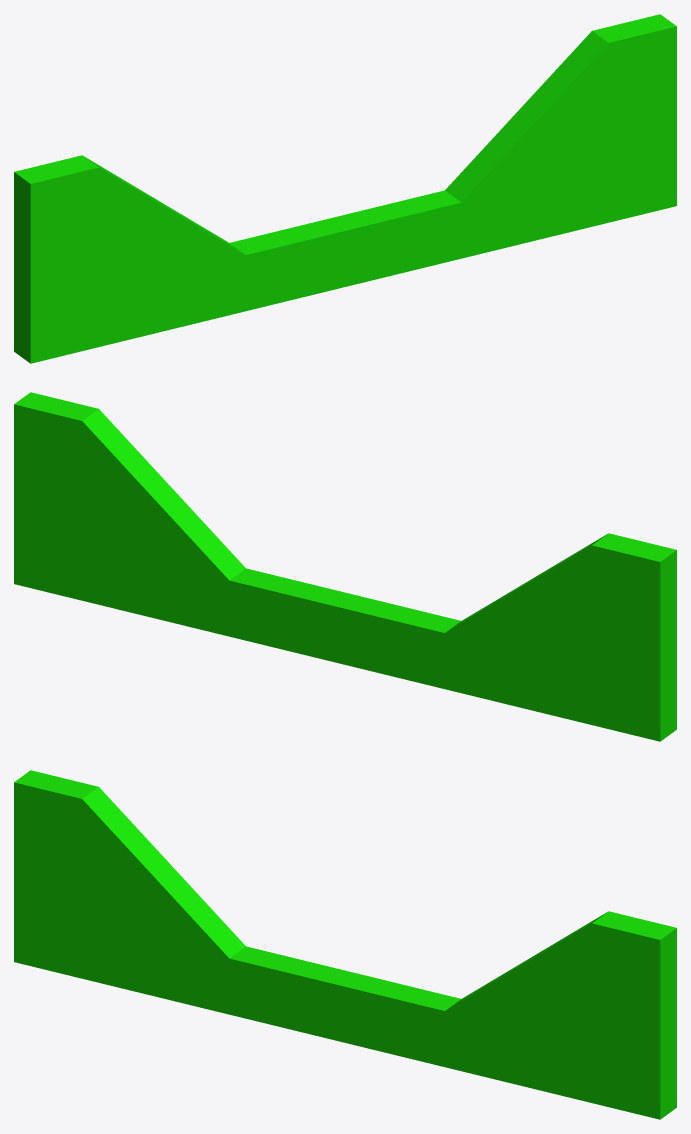
The model's file is sm_wall_halfmiddip_collider_updated.fbx.
3 renders of one model, top to bottom at view 1: azimuth 30°, elevation 25°; view 2: azimuth 150°, elevation 25°; view 3: azimuth 330°, elevation 25°, orthographic.
Parts seen in each view (by area): view 1: Cube.012; view 2: Cube.012; view 3: Cube.012.
Boxes of the visible parts, x1=… form: Cube.012: x1=14, y1=14, x2=676, y2=363; Cube.012: x1=14, y1=392, x2=676, y2=741; Cube.012: x1=14, y1=770, x2=676, y2=1119.
Size of the model in its own units: 11.38 by 3.02 by 0.5084.
